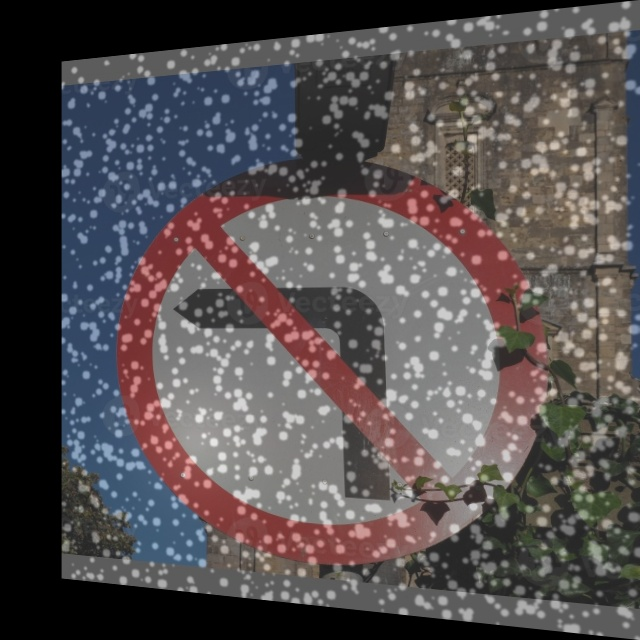Left_Turn_Prohibited: (118, 151, 547, 579)
